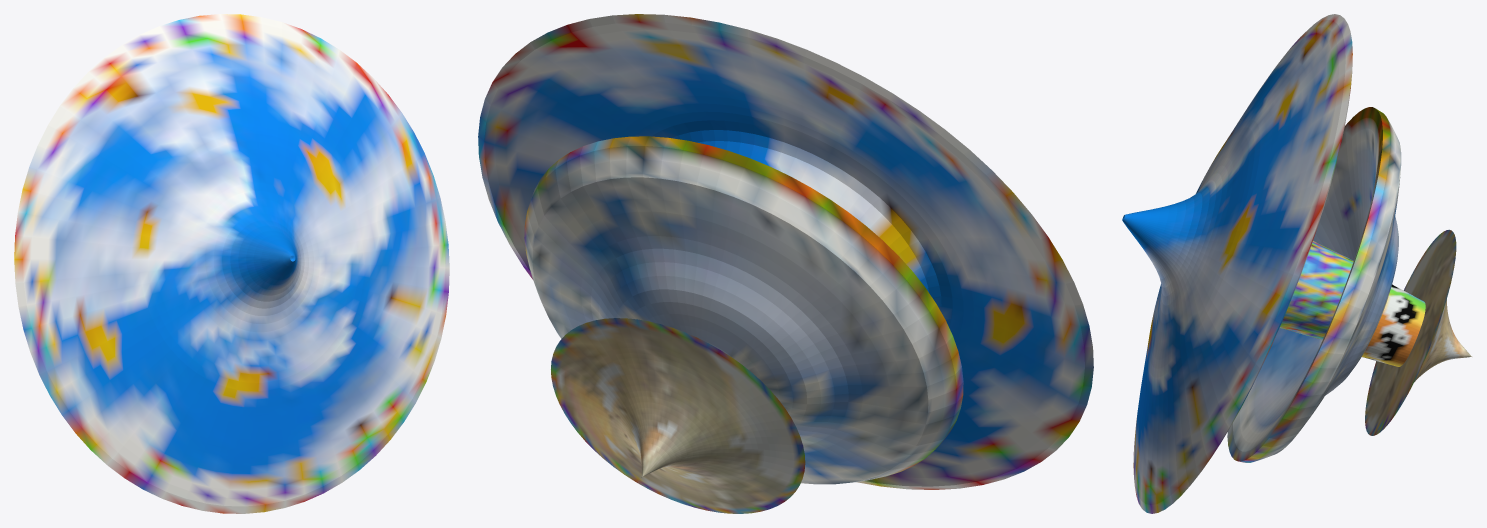
The model's file is april28outdoorpagoda20.glb.
The picture shows the model from 3 angles, left to right: view 1: azimuth 30°, elevation 25°; view 2: azimuth 150°, elevation 25°; view 3: azimuth 270°, elevation 25°; orthographic projection. The views are drawn at different scales.
Visible parts, largest first — view 1: Lathe 4; view 2: Lathe 4, Lathe 3, Lathe; view 3: Lathe 4, Lathe 3, Lathe, Lathe.001.
Boxes of the visible parts, <box> form: Lathe 4: <box>14,14,449,513</box>; Lathe 4: <box>478,14,1093,489</box>; Lathe 3: <box>524,136,963,484</box>; Lathe: <box>551,318,805,513</box>; Lathe 4: <box>1122,14,1353,513</box>; Lathe 3: <box>1227,107,1401,462</box>; Lathe: <box>1365,229,1472,435</box>; Lathe.001: <box>1362,284,1425,366</box>.
Size of the model in its own units: 3.74 by 3.42 by 2.46.
